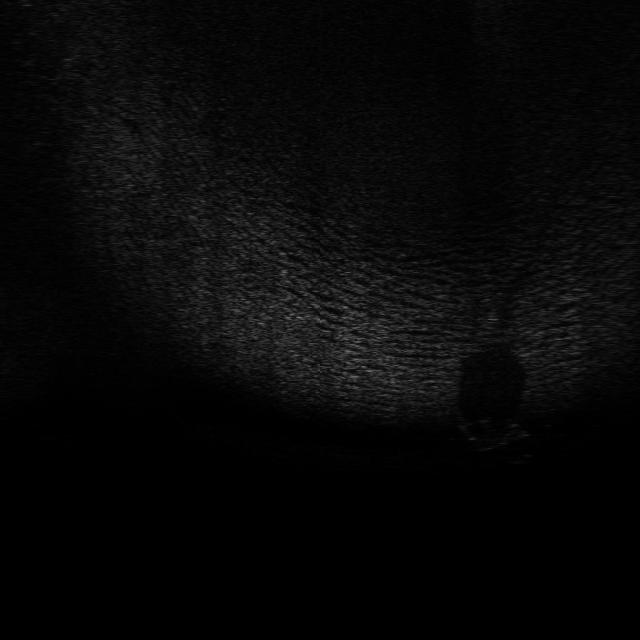cube: (456, 414, 536, 452)
